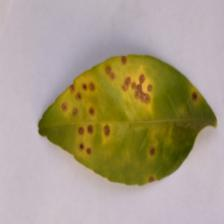canker: (57, 51, 150, 186)
